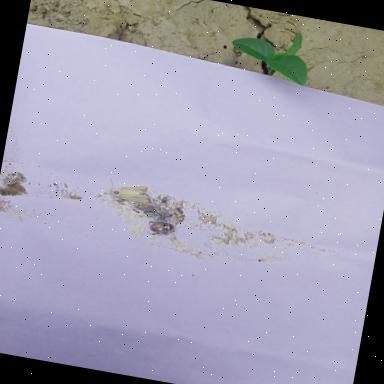pbw: (106, 177, 152, 210), (6, 176, 22, 188), (63, 182, 68, 188)
